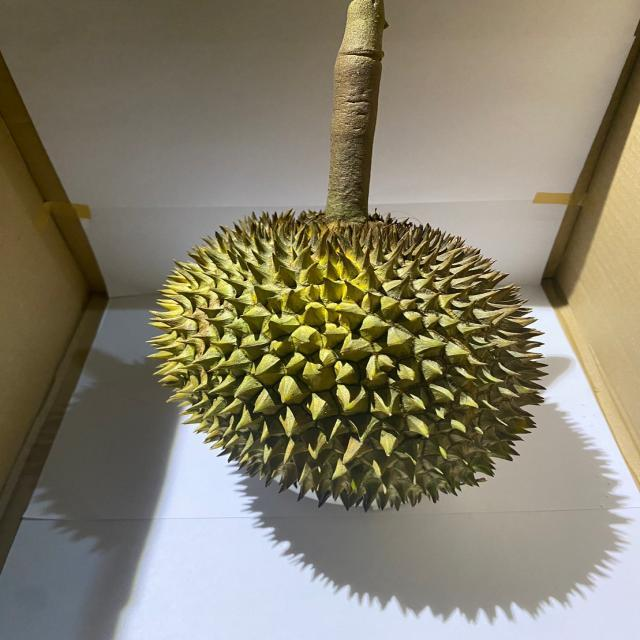immature: (150, 210, 552, 508)
